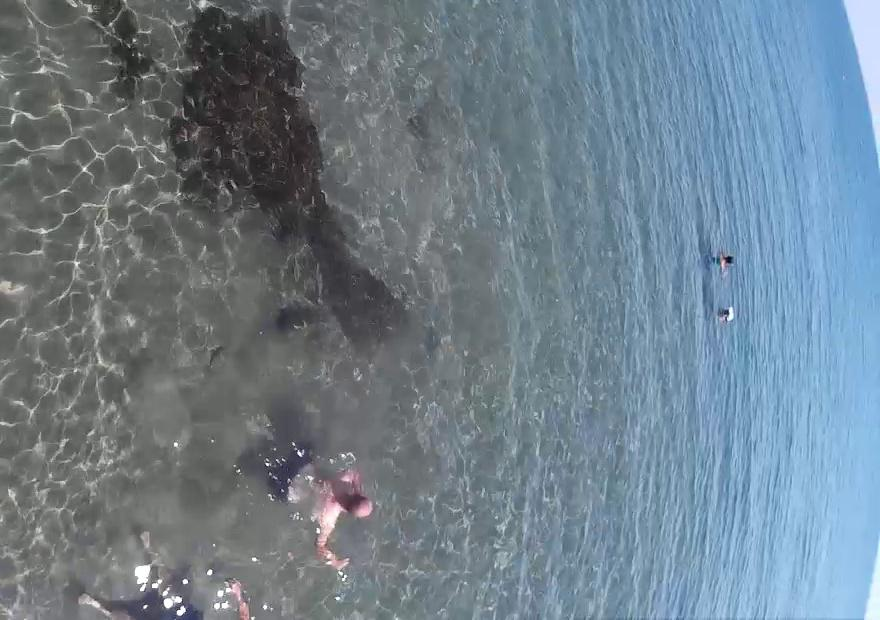swimmer: (254, 415, 364, 597), (710, 293, 740, 333), (707, 243, 736, 273), (0, 1, 0, 1)
